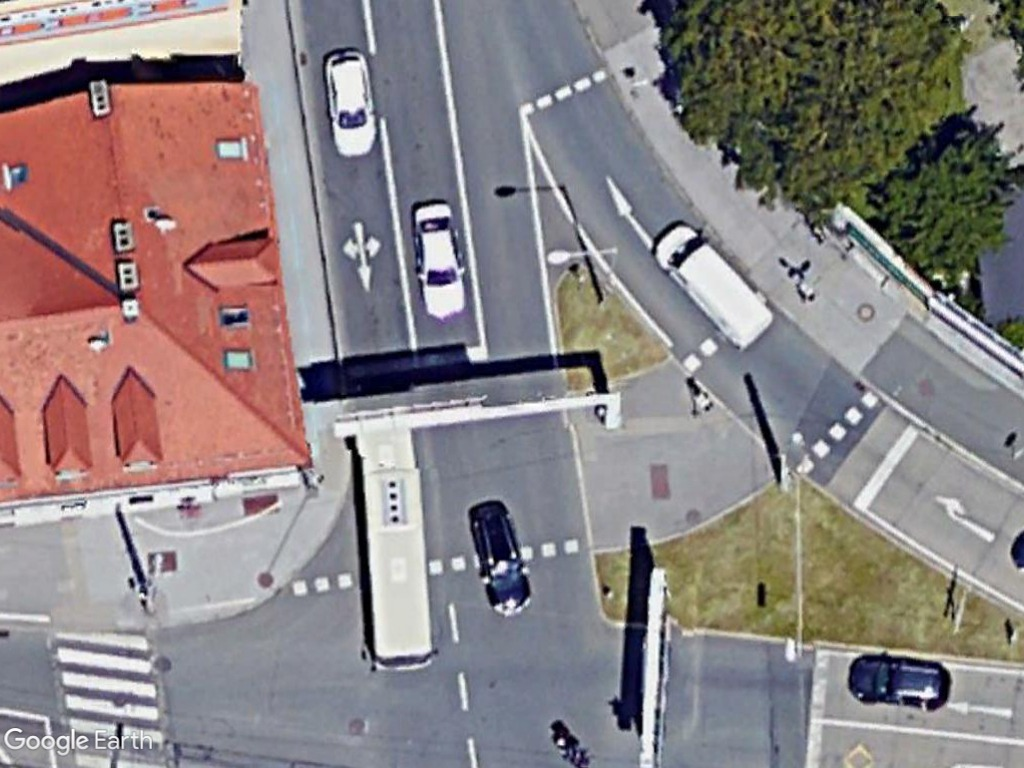bus: (354, 435, 446, 678)
car: (467, 490, 537, 620), (410, 195, 468, 325), (319, 45, 382, 163), (844, 649, 956, 713)
van: (642, 216, 780, 354)
